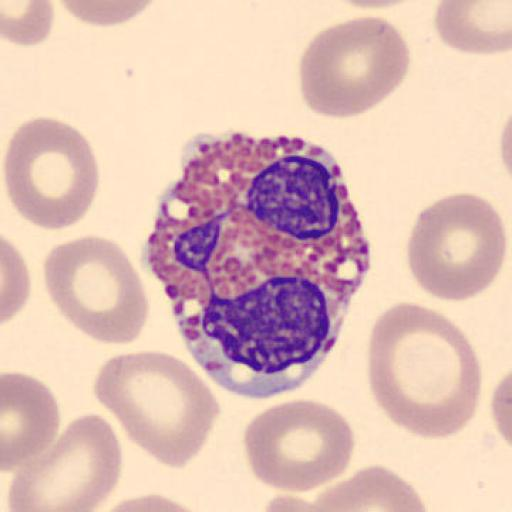RBC: (366, 300, 483, 442), (93, 349, 221, 469), (42, 234, 151, 346), (298, 14, 412, 120), (405, 190, 508, 304), (7, 412, 124, 512), (1, 114, 100, 232), (242, 398, 356, 493), (307, 464, 430, 512), (2, 371, 61, 471), (434, 0, 512, 56), (56, 0, 163, 28), (1, 234, 32, 326), (88, 492, 215, 512), (2, 0, 56, 47), (490, 366, 512, 450), (259, 492, 344, 512), (327, 0, 427, 11), (499, 112, 512, 183)
WBC: (148, 120, 371, 399)
